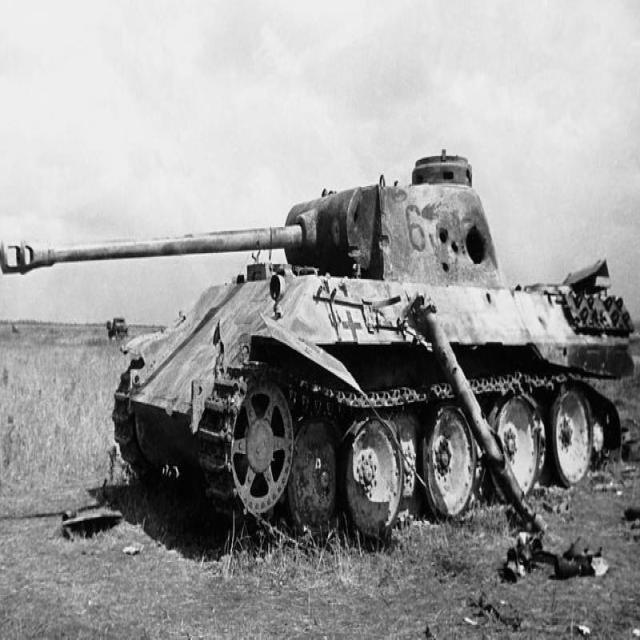Tanks: (76, 140, 624, 522)
